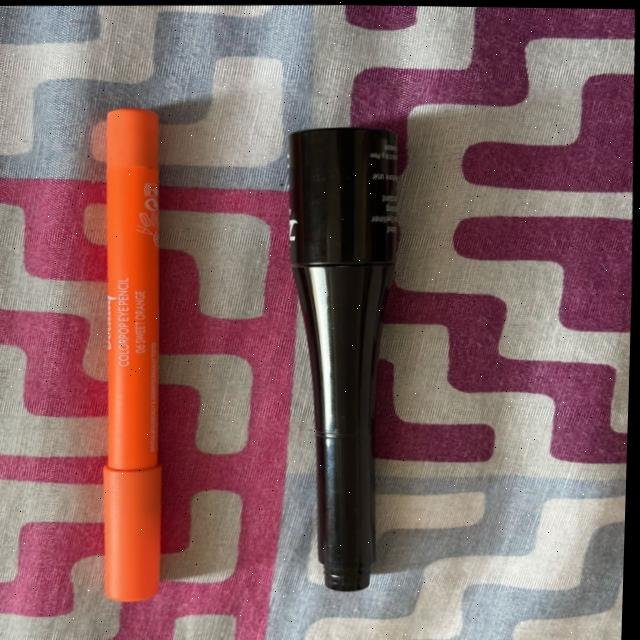eye liner: (235, 105, 421, 610)
lip liner: (53, 98, 194, 610)
